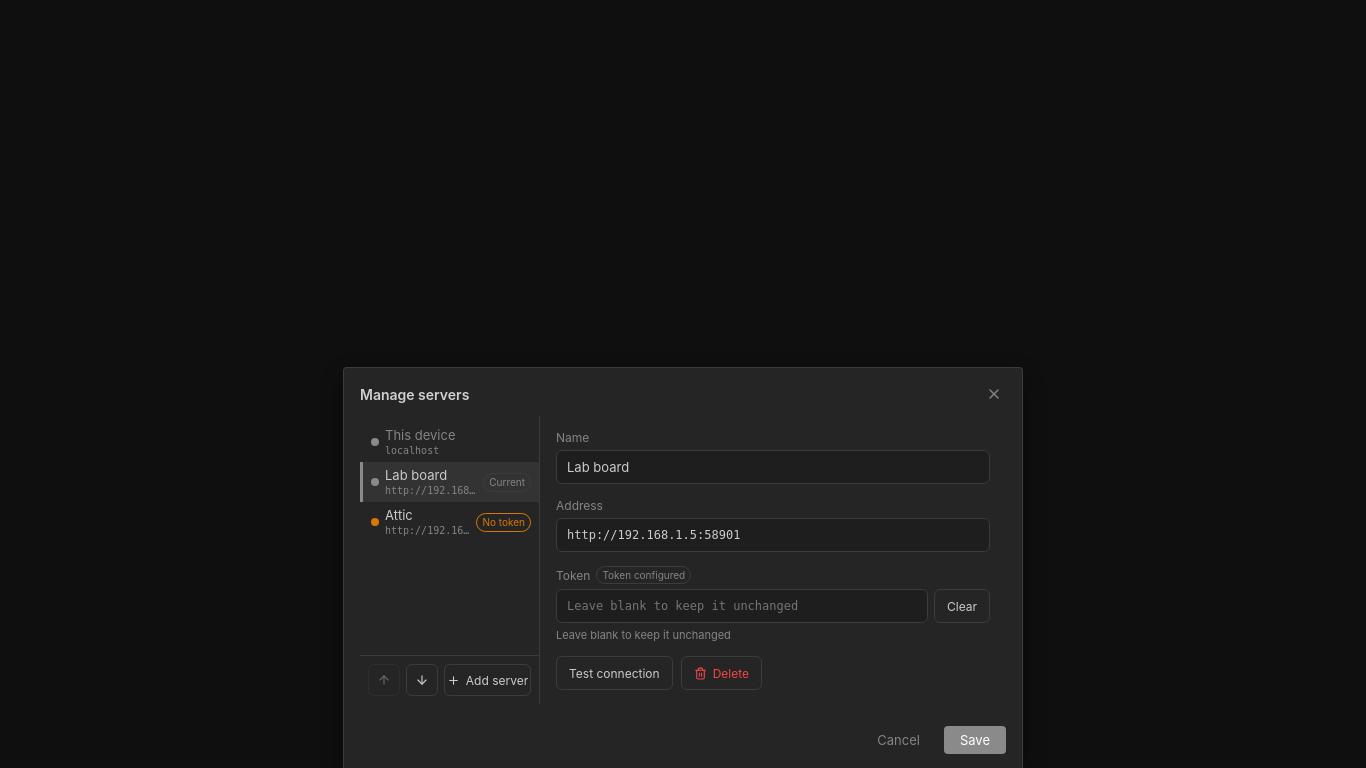
ServerManagerDialog › removes a row once confirmed
The width and height of the screenshot is (1366, 768).
Click the button with class "srv-mgr-btn--danger" at (721, 673), box [681,656,762,690]
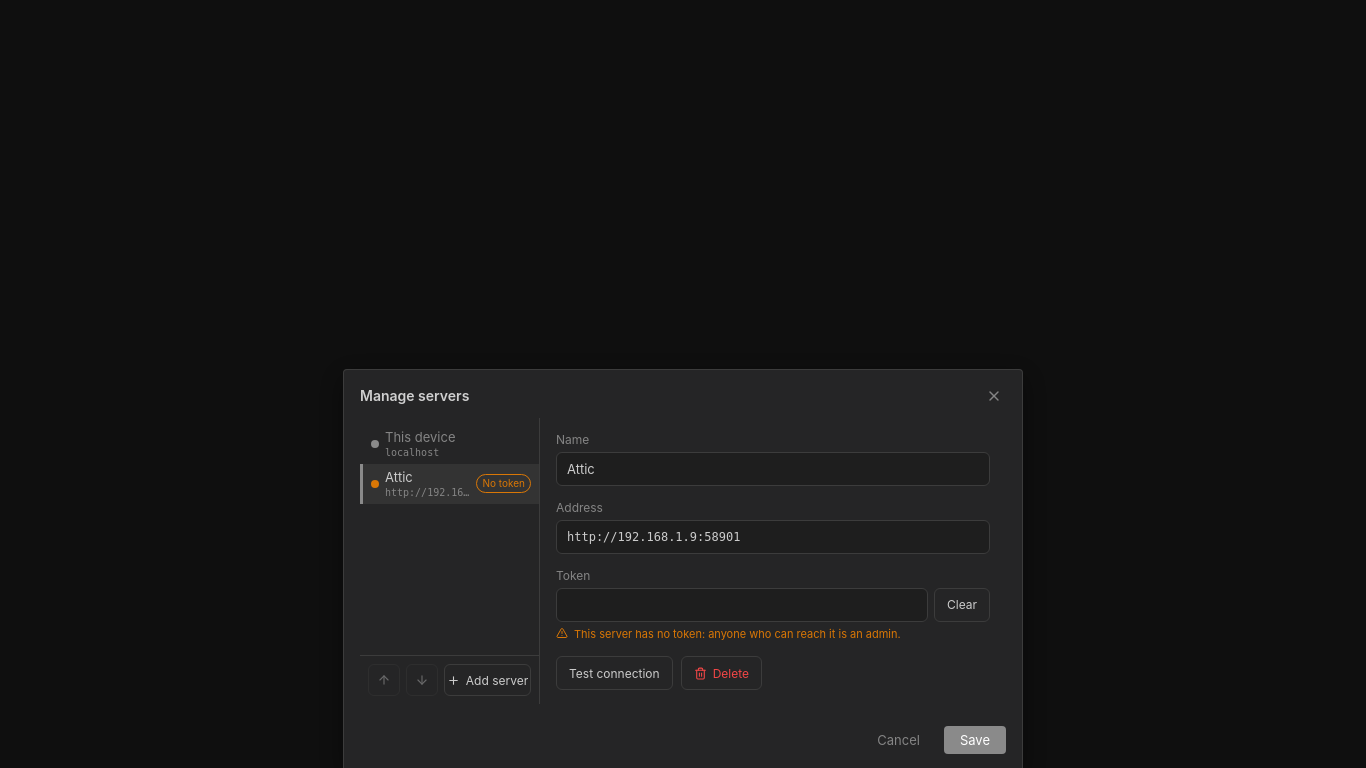
Result: the number of elements with class "srv-mgr-row" is 2 at [371,429,456,458]; [360,464,539,504]
Result: the text "Lab board" is gone
